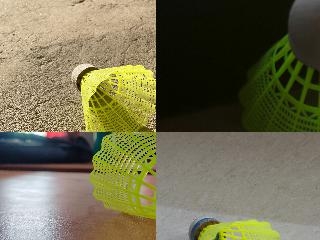shuttlecock: (239, 0, 319, 131), (88, 132, 155, 239), (70, 63, 155, 131), (188, 216, 283, 239)
